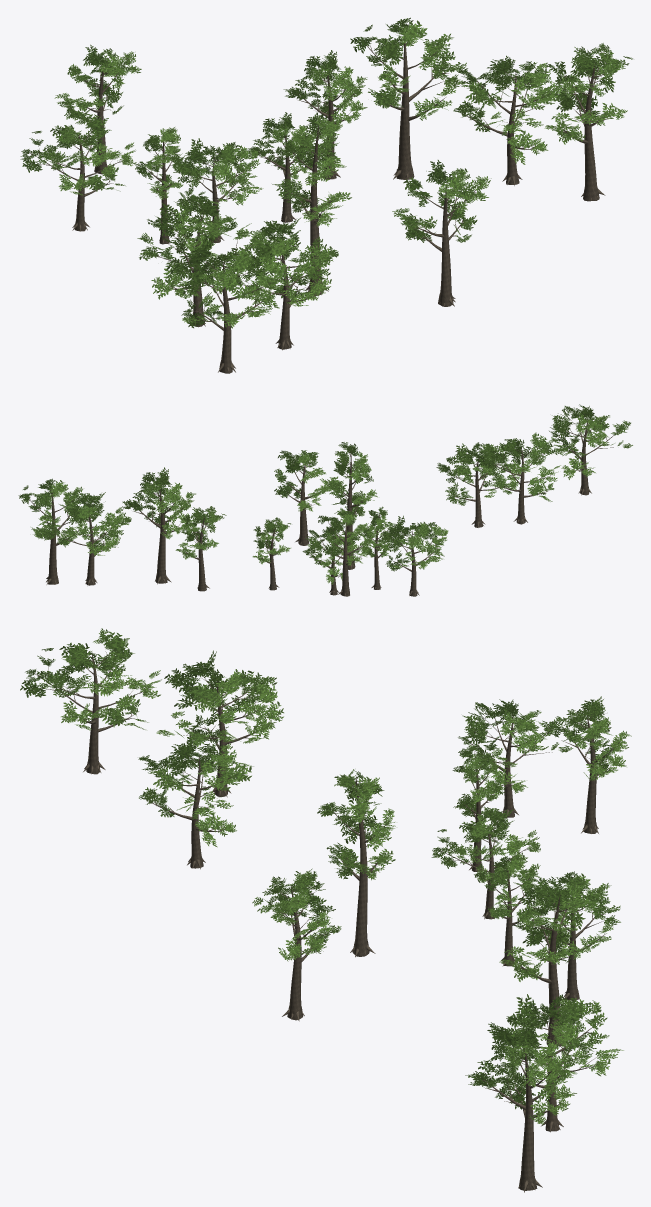
File: Canopy_13_16.glb
3 renders of one model, top to bottom at view 1: azimuth 30°, elevation 25°; view 2: azimuth 150°, elevation 25°; view 3: azimuth 270°, elevation 25°, orthographic. The views are drawn at different scales.
Parts seen in each view (by area): view 1: Canopy_13_16; view 2: Canopy_13_16; view 3: Canopy_13_16.
Boxes of the visible parts, left/top/right/bottom form: Canopy_13_16: left=20, top=17, right=632, bottom=373; Canopy_13_16: left=18, top=404, right=632, bottom=596; Canopy_13_16: left=20, top=628, right=631, bottom=1192.
Bounding box in the file's own units: 89.67 × 31.63 × 68.05.
2 materials, 2 textured.
